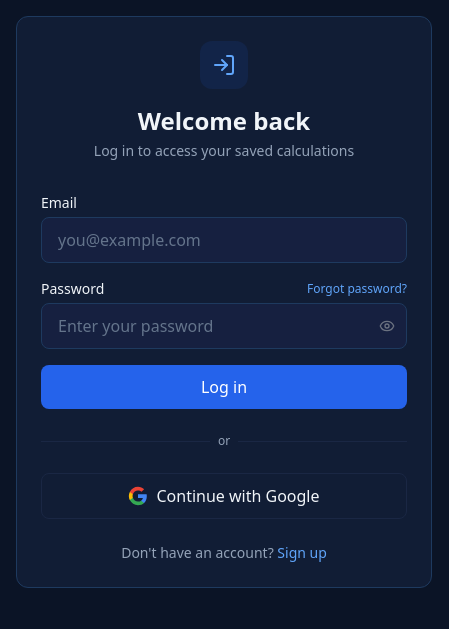
Test: LoginPage - client-side validation › blocks submit and surfaces the required error when the email is empty
The image size is (449, 629).
Click the button "Log in".
click(224, 387)  # box [41, 365, 407, 409]
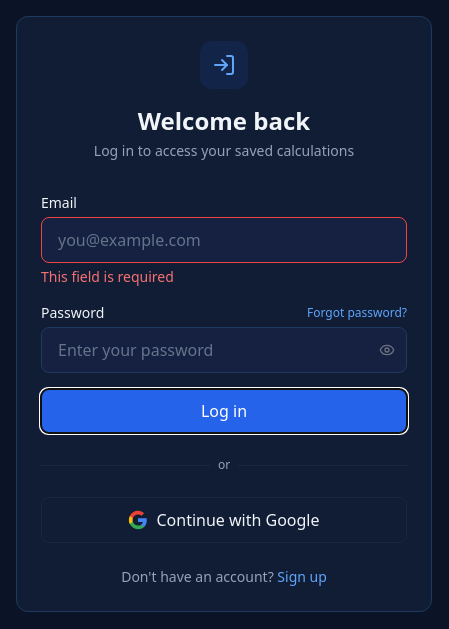
Now the message reads "This field is required", box [41, 267, 174, 286]
